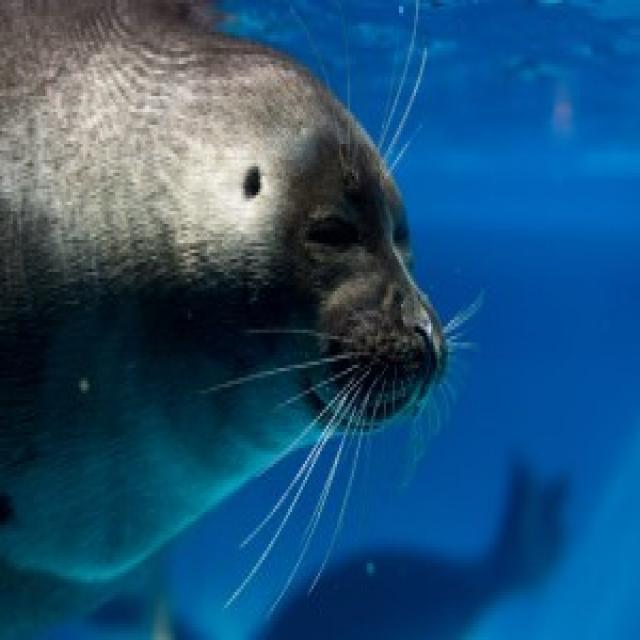Seal: (0, 0, 433, 589)
